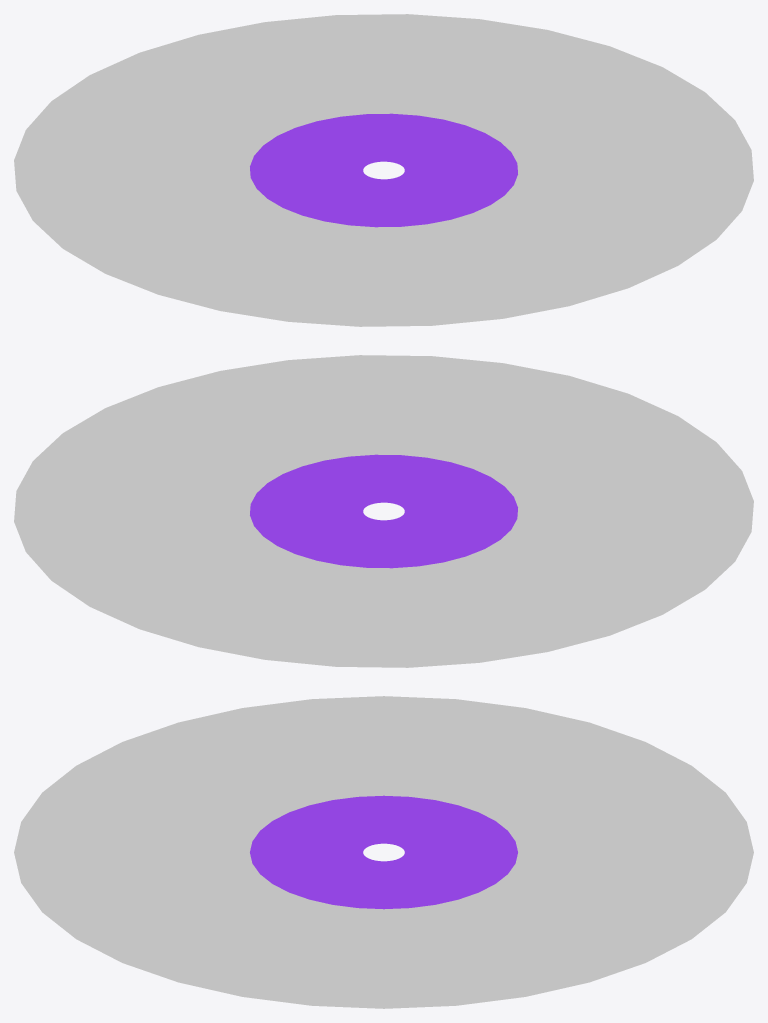
Rendered from vinyldisc.fbx.
3 renders of one model, top to bottom at view 1: azimuth 30°, elevation 25°; view 2: azimuth 150°, elevation 25°; view 3: azimuth 270°, elevation 25°, orthographic.
Parts seen in each view (by area): view 1: purple disc; view 2: purple disc; view 3: purple disc.
Boxes of the visible parts, x1=… form: purple disc: x1=14, y1=14, x2=753, y2=326; purple disc: x1=14, y1=355, x2=753, y2=667; purple disc: x1=14, y1=696, x2=753, y2=1008.
Size of the model in its own units: 200 by 3.26e-05 by 200.
